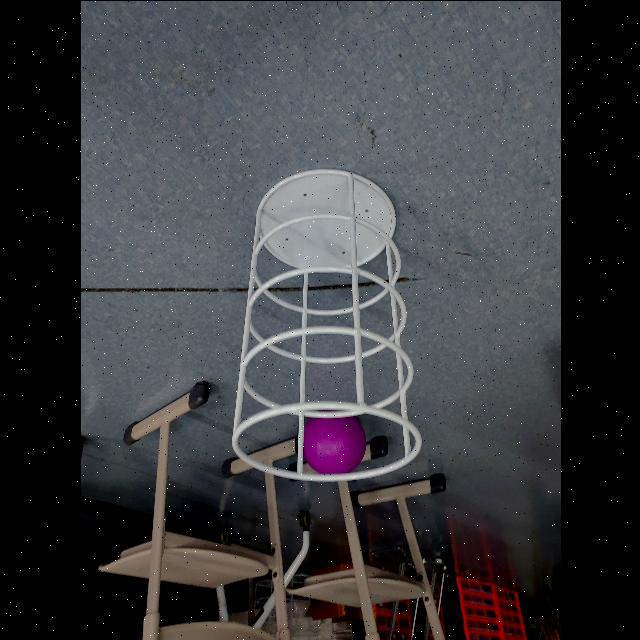S: (223, 162, 424, 483)
